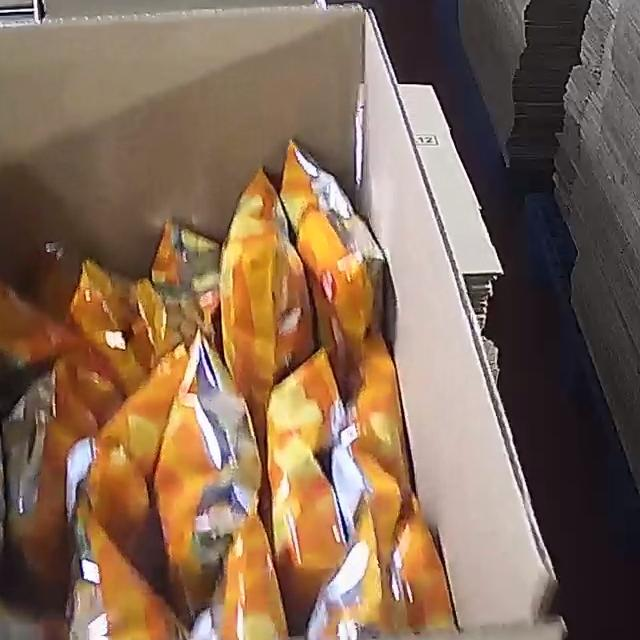cheese: (0, 136, 459, 640)
